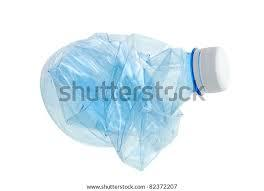plastic: (40, 35, 221, 169)
